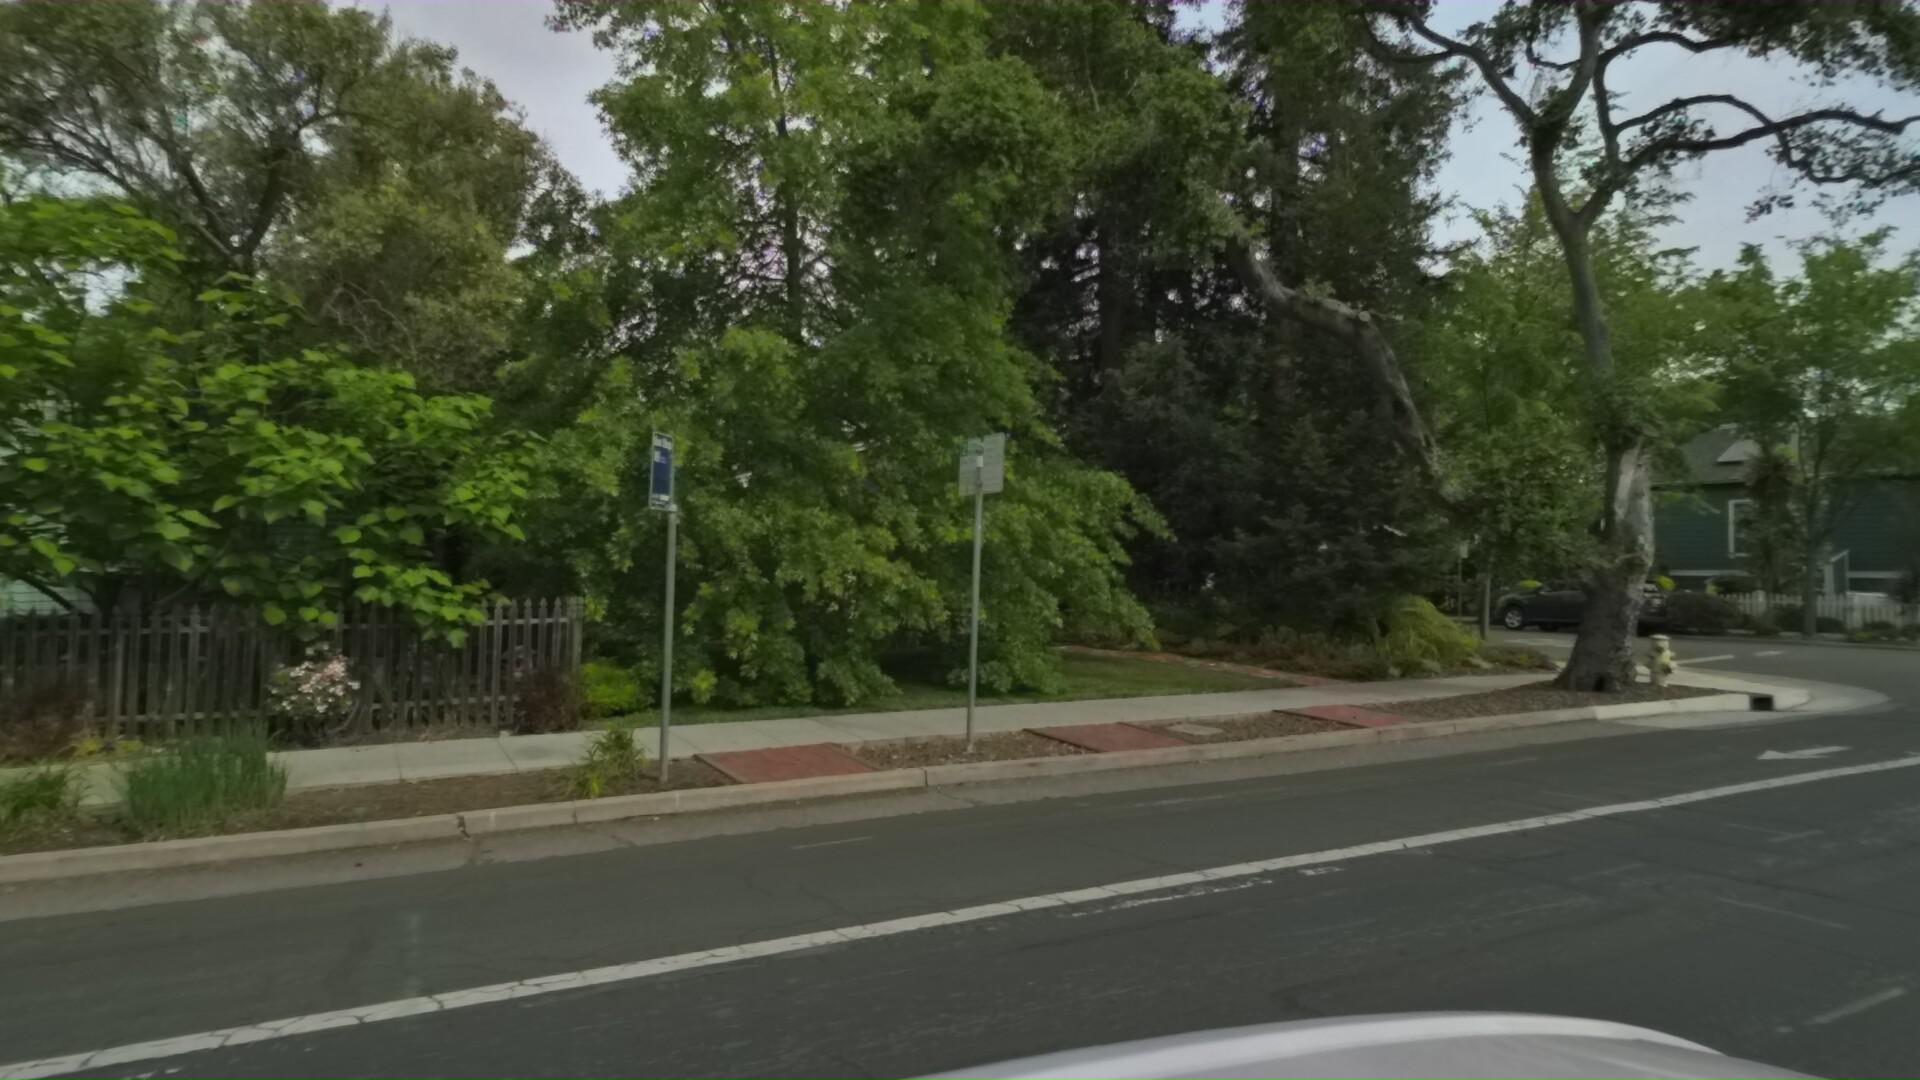car: (1477, 568, 1673, 642)
